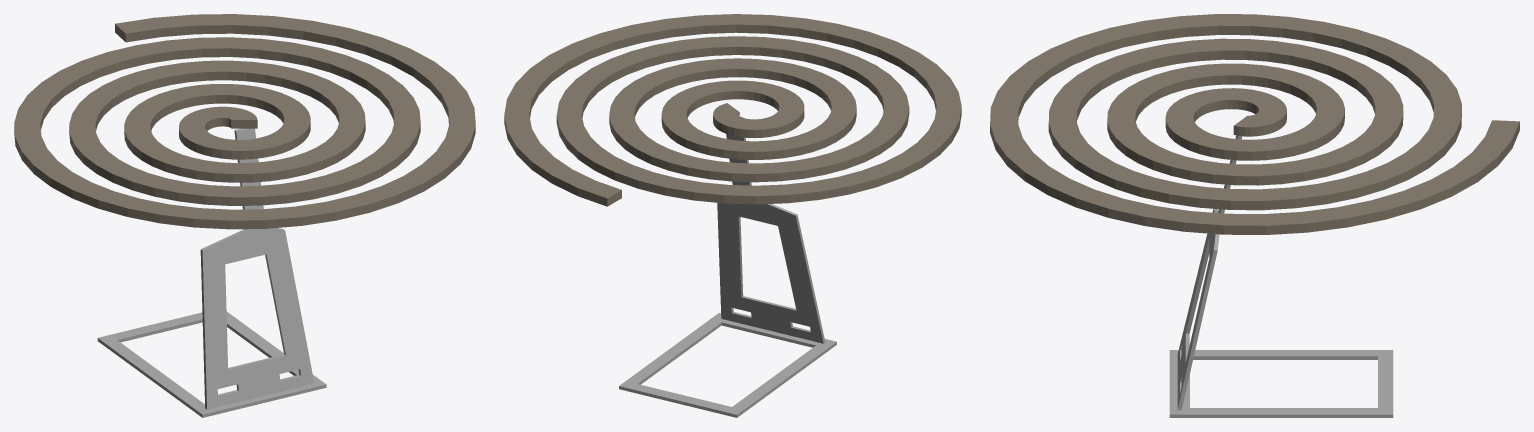
The model's file is NEW605_mosquito_coil_LOD1.glb.
3 renders of one model, left to right at view 1: azimuth 30°, elevation 25°; view 2: azimuth 150°, elevation 25°; view 3: azimuth 270°, elevation 25°, orthographic. The views are drawn at different scales.
Visible parts, largest first — view 1: Continuous_flat_coil, Folded_tapered_slotted_upright, Open_rectangular_base; view 2: Continuous_flat_coil, Folded_tapered_slotted_upright, Open_rectangular_base; view 3: Continuous_flat_coil, Open_rectangular_base, Folded_tapered_slotted_upright.
Part boxes in pixels (bbox=[...]): Continuous_flat_coil: bbox=[14, 14, 475, 229]; Folded_tapered_slotted_upright: bbox=[200, 128, 314, 409]; Open_rectangular_base: bbox=[97, 311, 326, 417]; Continuous_flat_coil: bbox=[504, 14, 961, 206]; Folded_tapered_slotted_upright: bbox=[717, 117, 825, 343]; Open_rectangular_base: bbox=[619, 313, 836, 417]; Continuous_flat_coil: bbox=[990, 14, 1519, 234]; Open_rectangular_base: bbox=[1169, 350, 1393, 417]; Folded_tapered_slotted_upright: bbox=[1177, 135, 1242, 410].
Bounding box in the file's own units: 0.0985 × 0.059 × 0.1042.
